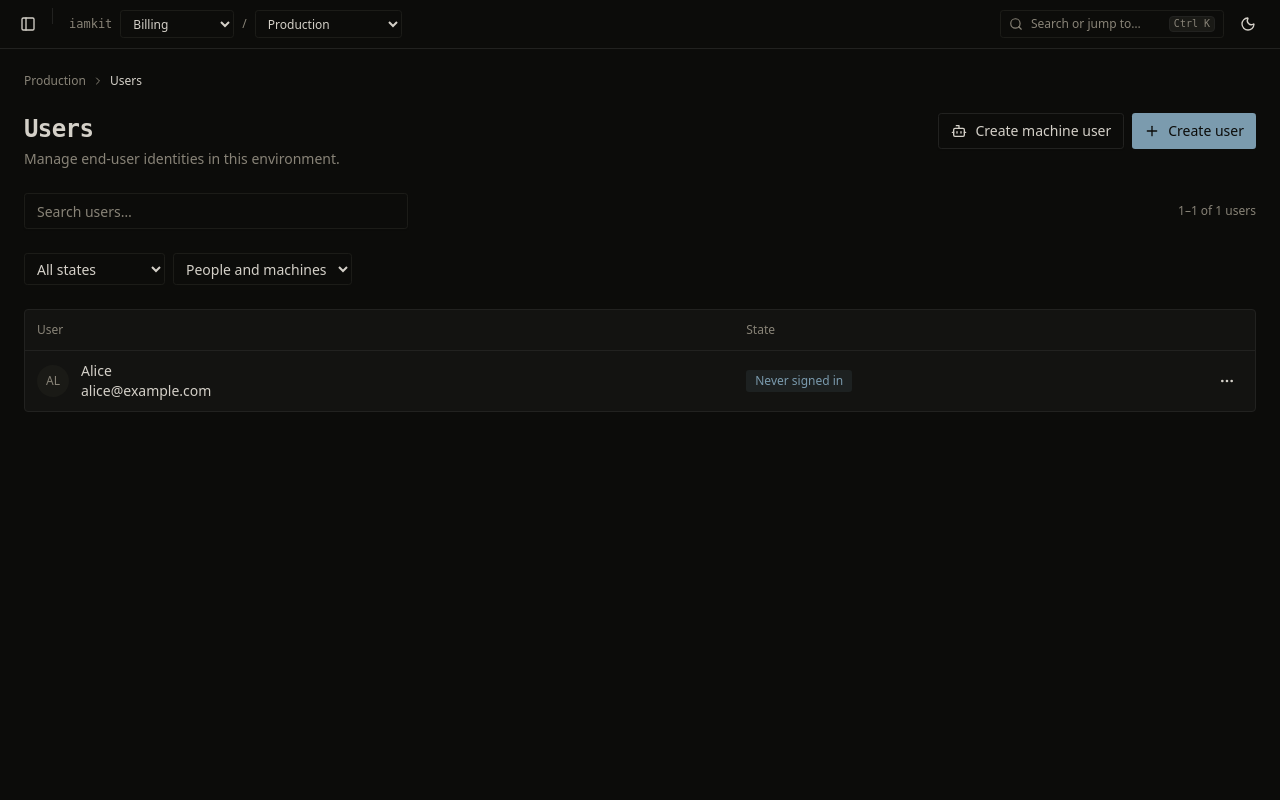
it: shows user states and filters the list by state
Select "Locked" in the dropdown named "Filter by state" at [94, 269], box 24,253 -> 165,285
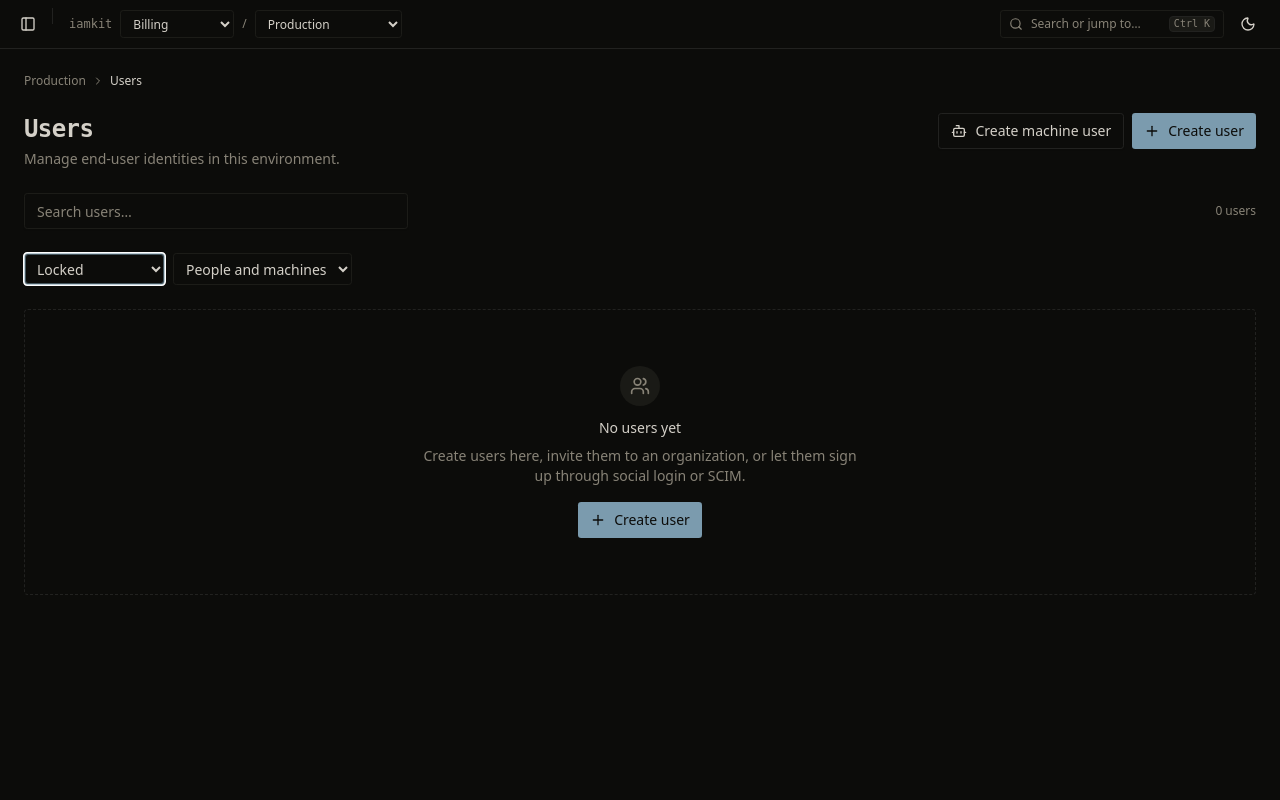
expect the text "No users yet" is shown: met, box 599,418 -> 681,438
